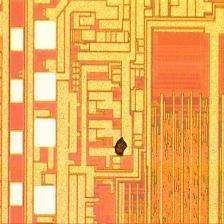PARTICLE: (109, 136, 132, 158)
